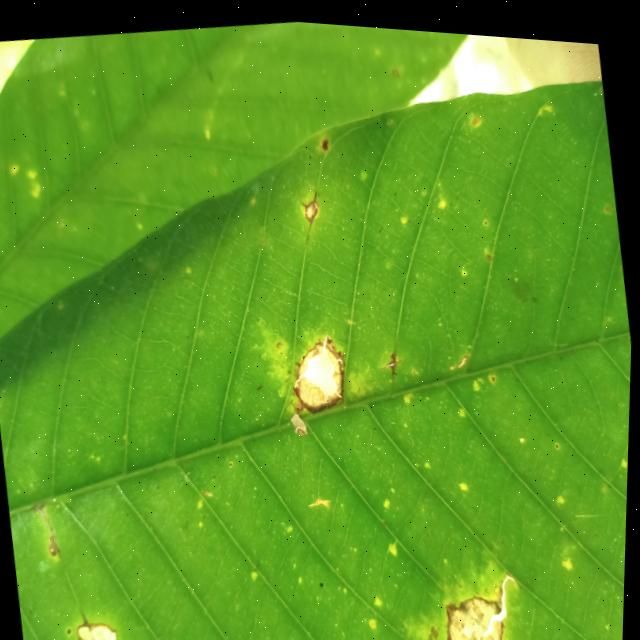Colletotrichum: (321, 576, 327, 583), (484, 212, 489, 218), (492, 369, 497, 374), (557, 435, 560, 440)
Leaf-Blight: (448, 586, 508, 640), (295, 368, 328, 406), (324, 329, 346, 361), (332, 354, 346, 392), (291, 408, 310, 433), (305, 335, 327, 355), (295, 352, 311, 377)
